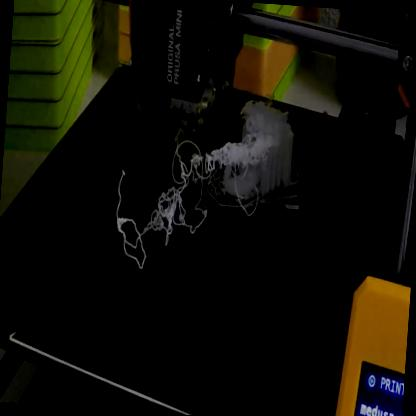fail: (111, 135, 228, 280)
